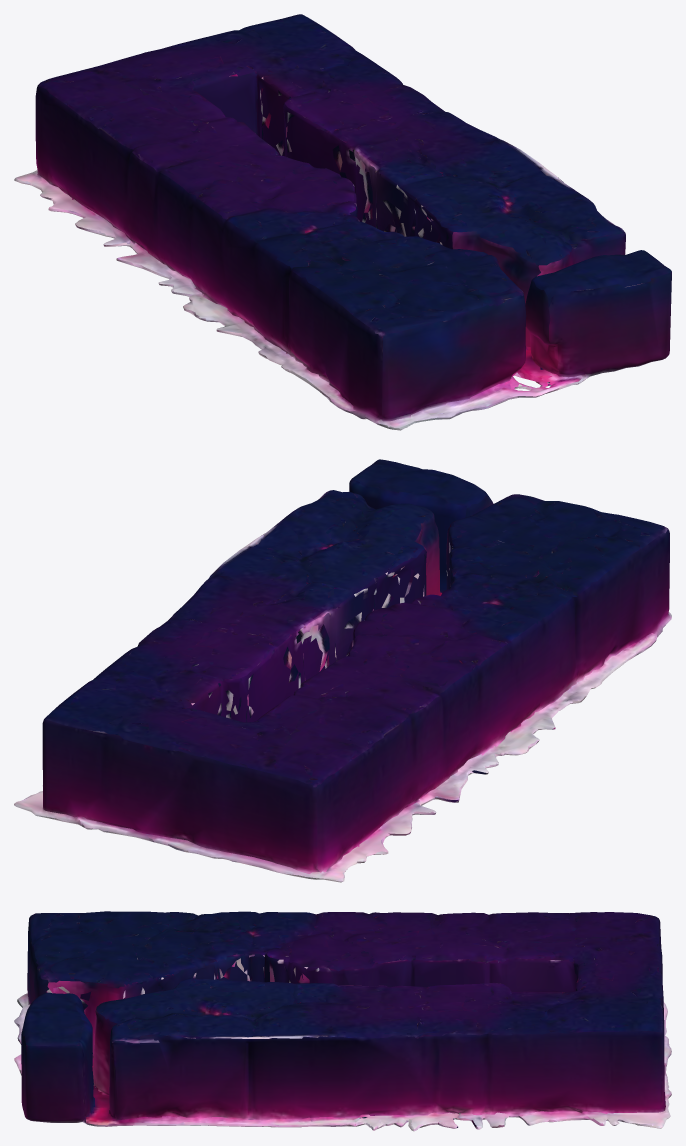
Rendered from approach-stone-1-generated-2026-05-17T18-16-39-754Z.low.glb.
3 renders of one model, top to bottom at view 1: azimuth 30°, elevation 25°; view 2: azimuth 150°, elevation 25°; view 3: azimuth 270°, elevation 25°, orthographic. The views are drawn at different scales.
Visible parts, largest first — view 1: temp_mesh.ply; view 2: temp_mesh.ply; view 3: temp_mesh.ply.
Part boxes in pixels (box(x1,y1,x2,y2)): temp_mesh.ply: box(14, 14, 671, 430); temp_mesh.ply: box(14, 459, 671, 882); temp_mesh.ply: box(14, 911, 671, 1131).
Bounding box in the file's own units: 1.06 × 0.3049 × 1.97.
Materials: 1 (1 with a texture image).
